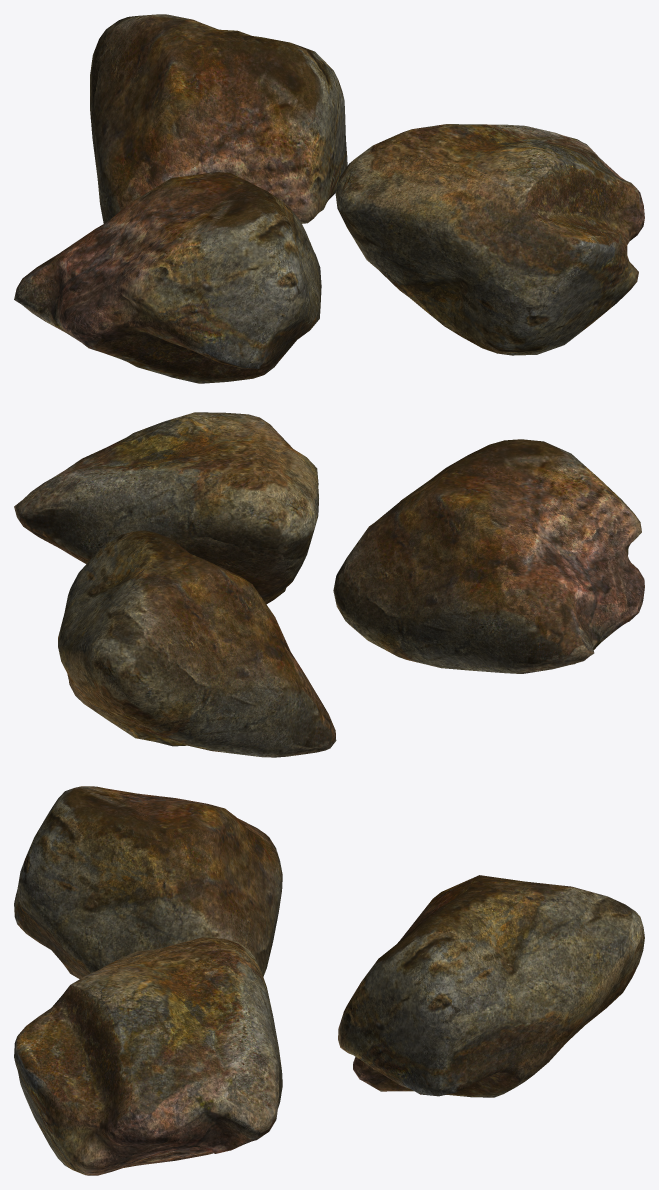
File: river_rock.glb
3 views of the same model, one above another, from view 1: azimuth 30°, elevation 25°; view 2: azimuth 150°, elevation 25°; view 3: azimuth 270°, elevation 25° (orthographic). The views are drawn at different scales.
Visible parts, largest first — view 1: RiverRock1, RiverRock, RiverRock2; view 2: RiverRock, RiverRock2, RiverRock1; view 3: RiverRock1, RiverRock2, RiverRock.
Part boxes in pixels (x1,y1,x2,y2): RiverRock1: (335, 124, 644, 355); RiverRock: (14, 172, 321, 383); RiverRock2: (90, 14, 347, 223); RiverRock: (333, 439, 644, 673); RiverRock2: (58, 530, 336, 757); RiverRock1: (14, 412, 318, 604); RiverRock1: (14, 937, 282, 1175); RiverRock2: (338, 875, 644, 1097); RiverRock: (14, 786, 282, 979).
Bounding box in the file's own units: 8.23 × 2.83 × 7.5.
1 material, 1 textured.
